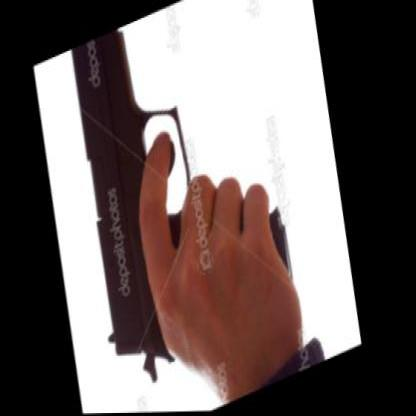pistol: (53, 0, 323, 402)
